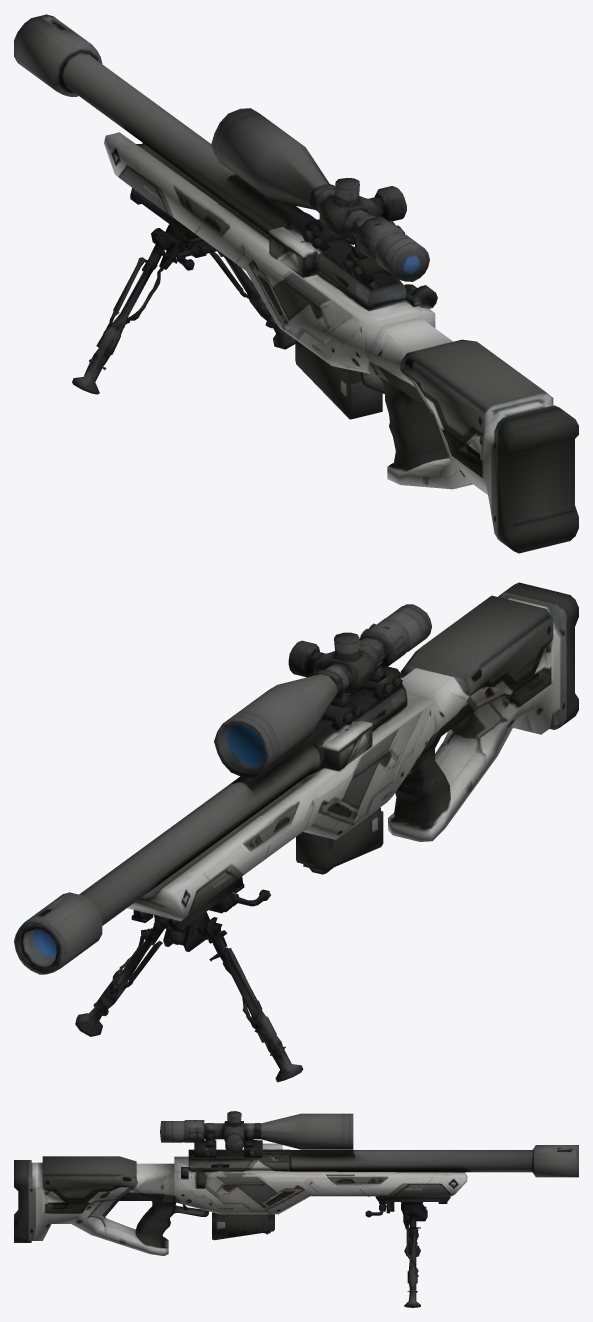
File: weapon-sniper-v1.glb
3 renders of one model, top to bottom at view 1: azimuth 30°, elevation 25°; view 2: azimuth 150°, elevation 25°; view 3: azimuth 270°, elevation 25°, orthographic. The views are drawn at different scales.
Parts seen in each view (by area): view 1: weapon-sniper-v1; view 2: weapon-sniper-v1; view 3: weapon-sniper-v1.
Boxes of the visible parts, x1,y1,x2,y2 form: weapon-sniper-v1: (14,14,578,553); weapon-sniper-v1: (14,582,578,1082); weapon-sniper-v1: (14,1111,578,1307).
Size of the model in its own units: 0.3487 by 0.4498 by 1.36.
Materials: 1 (1 with a texture image).
